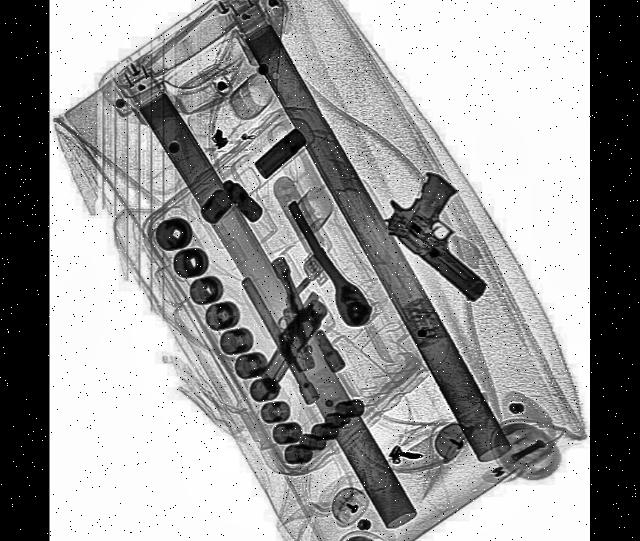Gun: (379, 150, 514, 306), (245, 263, 318, 384)
